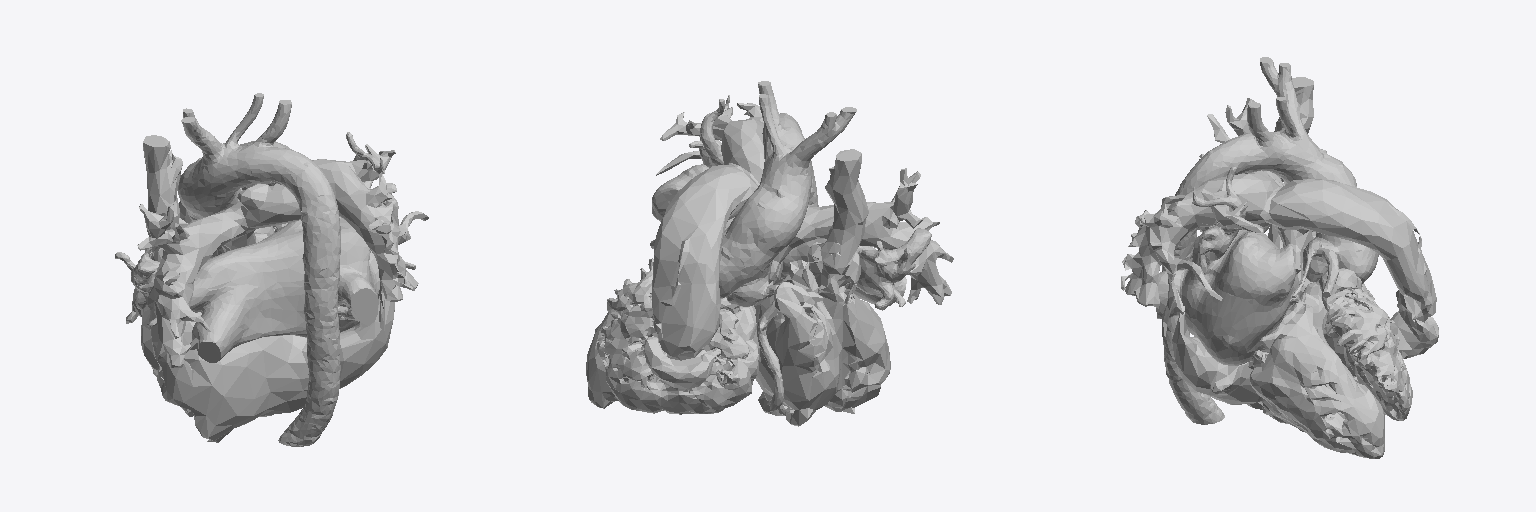
Rendered from 2018003-02PulmonaryArterylowres.obj.
The picture shows the model from 3 angles: view 1: azimuth 30°, elevation 25°; view 2: azimuth 150°, elevation 25°; view 3: azimuth 270°, elevation 25°; orthographic projection.
Parts seen in each view (by area): view 1: [number redacted]_Aorta, [number redacted]_Pulmonary_Artery, [number redacted]_Sub_Pulmonic_Atrium, [number redacted]_Sub_Arotic_Atrium; view 2: [number redacted]_Pulmonary_Artery, [number redacted]_Sub_Pulmonic_Atrium, [number redacted]_Aorta, [number redacted]_Sub_Aortic_Ventricle, [number redacted]_Sub_Arotic_Atrium, [number redacted]_Sub_Pulmonic_Ventricle; view 3: [number redacted]_Pulmonary_Artery, [number redacted]_Aorta, [number redacted]_Sub_Arotic_Atrium, [number redacted]_Sub_Pulmonic_Ventricle, [number redacted]_Sub_Aortic_Ventricle, [number redacted]_Sub_Pulmonic_Atrium.
Boxes of the visible parts, <box> form: [number redacted]_Aorta: <box>178,93,340,446</box>; [number redacted]_Pulmonary_Artery: <box>137,141,428,367</box>; [number redacted]_Sub_Pulmonic_Atrium: <box>126,135,394,442</box>; [number redacted]_Sub_Arotic_Atrium: <box>115,132,398,362</box>; [number redacted]_Pulmonary_Artery: <box>644,103,953,388</box>; [number redacted]_Sub_Pulmonic_Atrium: <box>753,149,890,426</box>; [number redacted]_Aorta: <box>650,81,856,412</box>; [number redacted]_Sub_Aortic_Ventricle: <box>596,258,758,414</box>; [number redacted]_Sub_Arotic_Atrium: <box>652,95,931,310</box>; [number redacted]_Sub_Pulmonic_Ventricle: <box>586,297,740,408</box>; [number redacted]_Pulmonary_Artery: <box>1121,98,1438,358</box>; [number redacted]_Aorta: <box>1162,57,1378,424</box>; [number redacted]_Sub_Arotic_Atrium: <box>1156,167,1300,365</box>; [number redacted]_Sub_Pulmonic_Ventricle: <box>1248,279,1384,458</box>; [number redacted]_Sub_Aortic_Ventricle: <box>1319,268,1412,420</box>; [number redacted]_Sub_Pulmonic_Atrium: <box>1172,77,1315,409</box>.
Bounding box in the file's own units: 190 × 204 × 185.